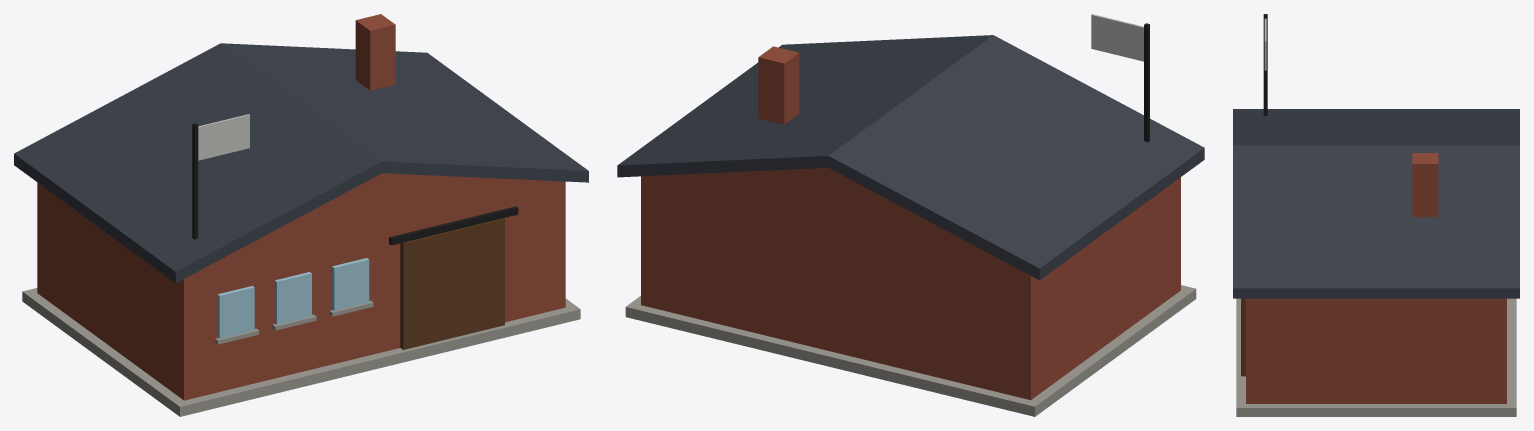
Rendered from building.glb.
3 renders of one model, left to right at view 1: azimuth 30°, elevation 25°; view 2: azimuth 150°, elevation 25°; view 3: azimuth 270°, elevation 25°, orthographic. The views are drawn at different scales.
Parts seen in each view (by area): view 1: Building; view 2: Building; view 3: Building.
Part boxes in pixels (x1,y1,x2,y2): Building: [14, 14, 588, 416]; Building: [617, 14, 1204, 416]; Building: [1233, 14, 1519, 416].
Size of the model in its own units: 13 by 8.2 by 8.8.
